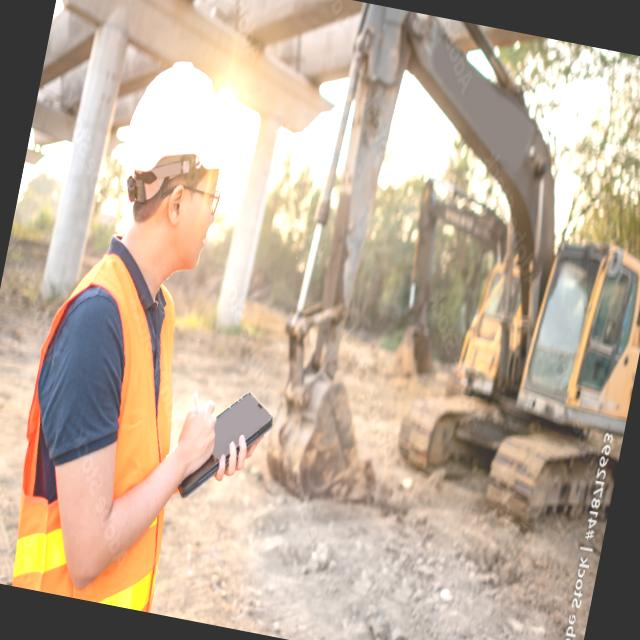goggles: (166, 176, 222, 211)
helmet: (111, 47, 250, 186)
vest: (0, 247, 212, 612)
